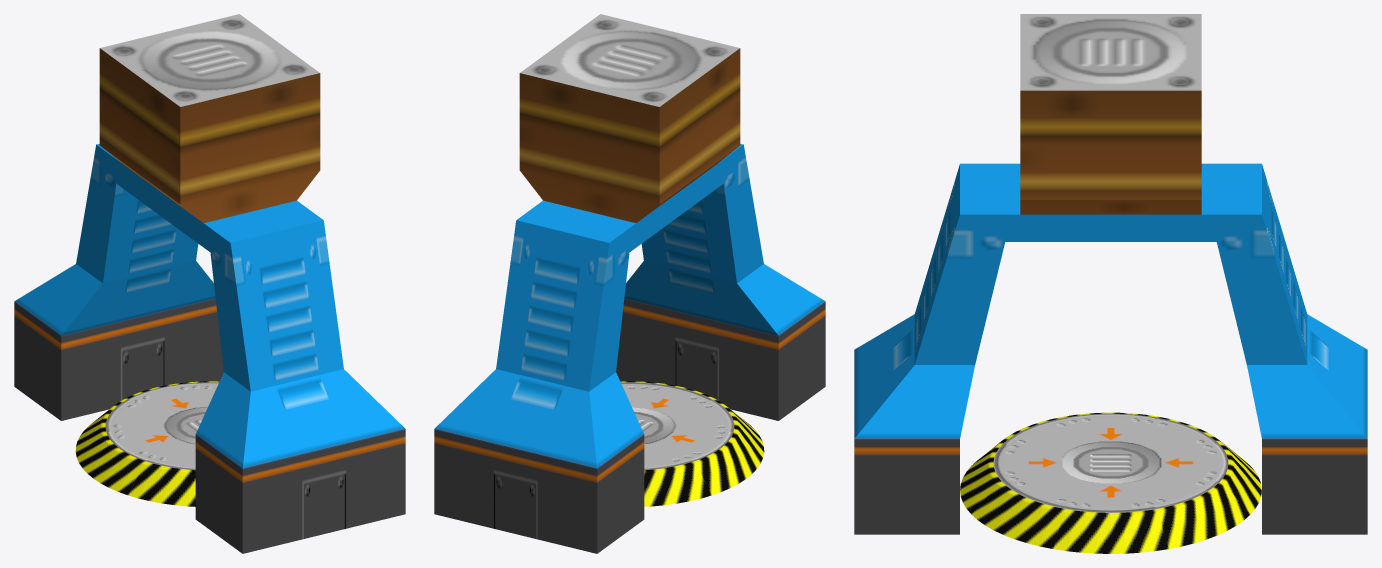
The model's file is destroy1.obj.
The picture shows the model from 3 angles, left to right: view 1: azimuth 30°, elevation 25°; view 2: azimuth 150°, elevation 25°; view 3: azimuth 270°, elevation 25°; orthographic projection. The views are drawn at different scales.
Visible parts, largest first — view 1: ColobotMesh_1_ColobotMesh_, Cylinder; view 2: ColobotMesh_1_ColobotMesh_, Cylinder; view 3: ColobotMesh_1_ColobotMesh_, Cylinder.
Part boxes in pixels (box(x1,y1,x2,y2)): ColobotMesh_1_ColobotMesh_: box(14, 14, 405, 553); Cylinder: box(75, 381, 219, 506); ColobotMesh_1_ColobotMesh_: box(434, 14, 825, 553); Cylinder: box(620, 381, 764, 506); ColobotMesh_1_ColobotMesh_: box(854, 14, 1367, 534); Cylinder: box(960, 412, 1261, 553).
Bounding box in the file's own units: 20 × 32 × 34.
